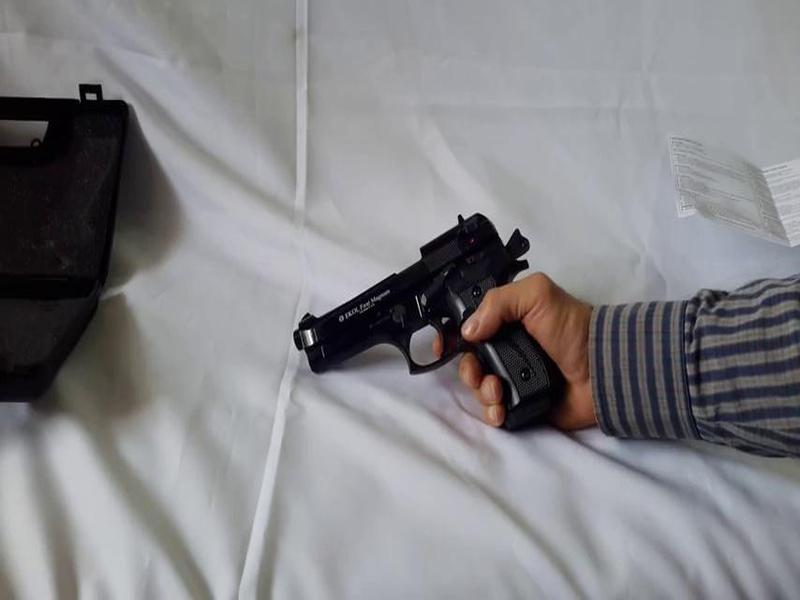Pistola: (237, 227, 574, 425)
